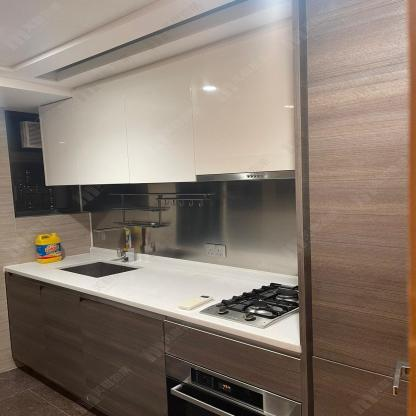Cupboard: (41, 20, 291, 185), (10, 273, 170, 414), (36, 56, 197, 185)
Exhaust Hood: (196, 170, 299, 181)
Faucet: (91, 225, 141, 262)
Oven: (167, 352, 310, 416), (165, 353, 302, 416)
Sink: (36, 255, 159, 288), (57, 258, 142, 277)
Stove: (191, 278, 300, 338), (191, 281, 302, 331)
